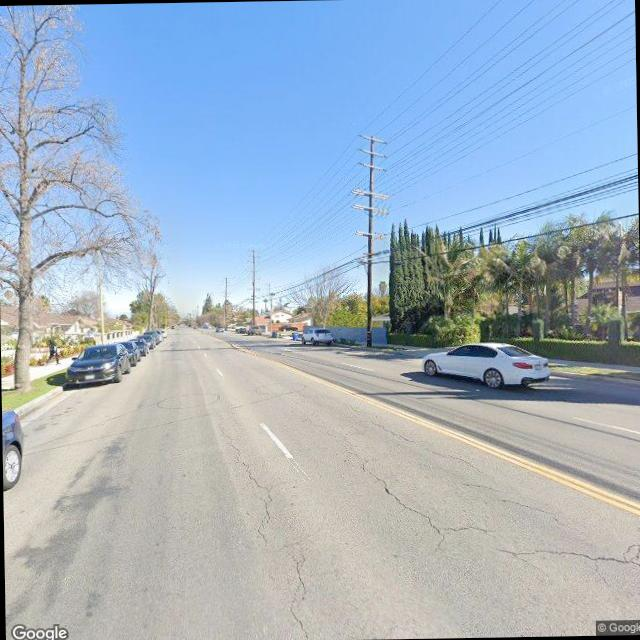crack: (292, 402, 640, 600)
pothole: (301, 401, 442, 551), (360, 407, 490, 475), (216, 415, 276, 546), (283, 550, 315, 640), (498, 494, 562, 519), (451, 476, 498, 495)
